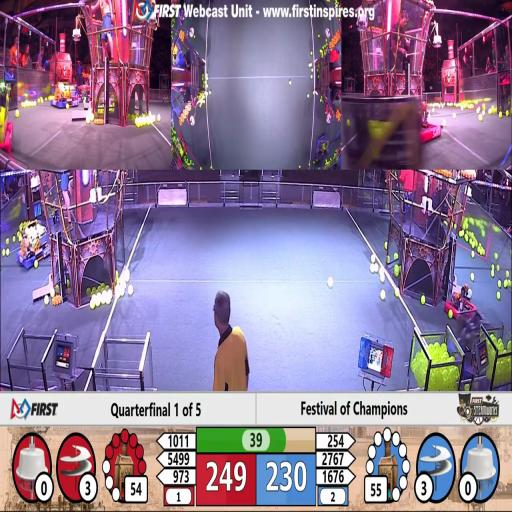robot: (342, 95, 420, 171), (446, 317, 488, 372), (17, 220, 56, 270), (446, 282, 478, 323), (415, 97, 443, 143), (0, 87, 14, 155), (50, 82, 78, 110), (75, 83, 94, 105), (315, 133, 329, 161), (325, 103, 336, 121), (178, 10, 189, 24)
